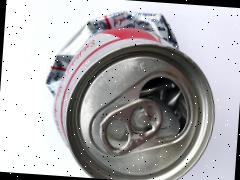metal: (29, 3, 225, 180)
